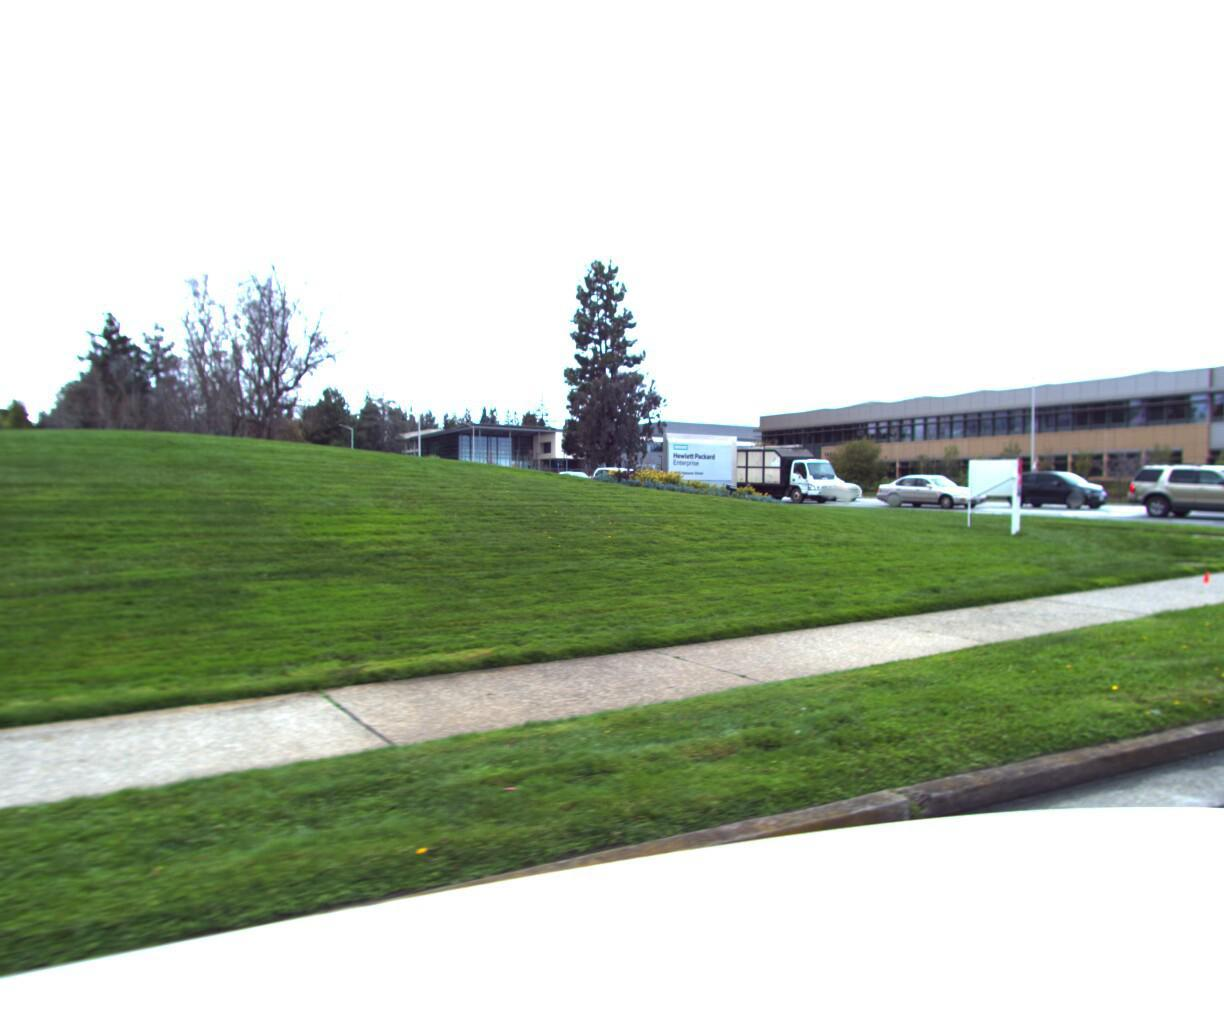car: (1121, 454, 1224, 520), (992, 467, 1114, 507), (867, 472, 988, 507), (779, 471, 867, 499), (586, 464, 652, 496)
truck: (720, 438, 847, 500)
